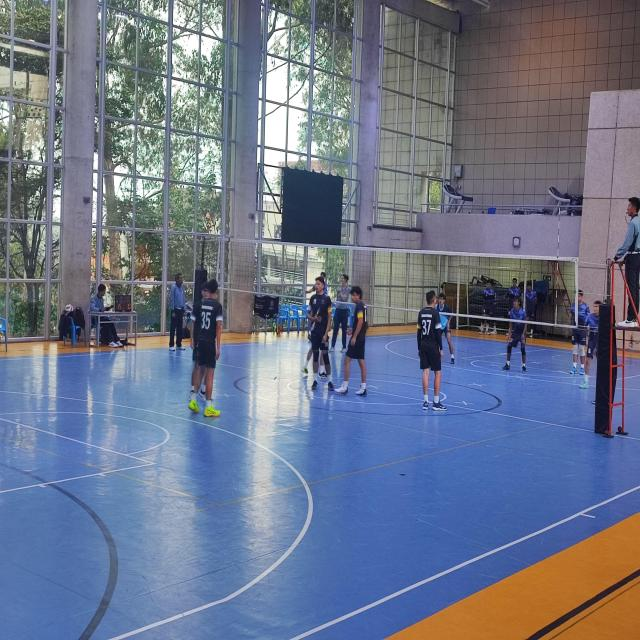volleyball: (64, 304, 74, 314)
